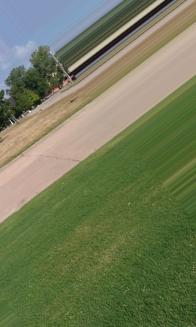patch: (81, 75, 121, 95), (1, 130, 29, 157), (52, 98, 85, 117), (25, 119, 56, 138), (119, 58, 149, 71)
